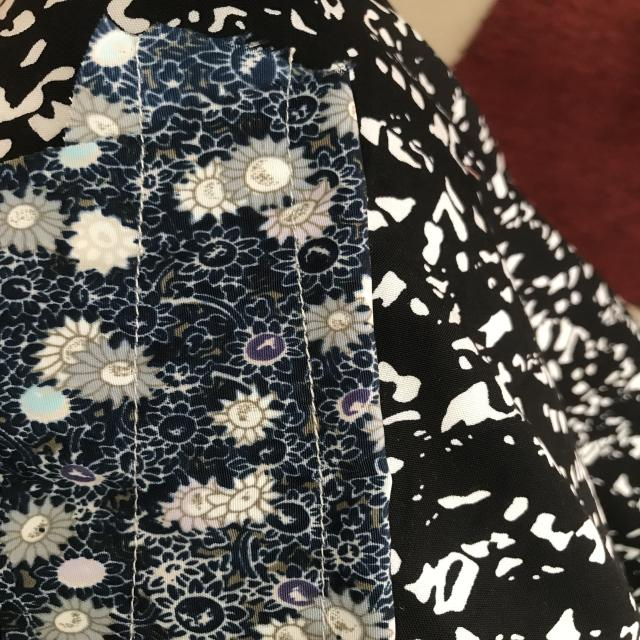good: (294, 361, 341, 514), (121, 412, 145, 584)
